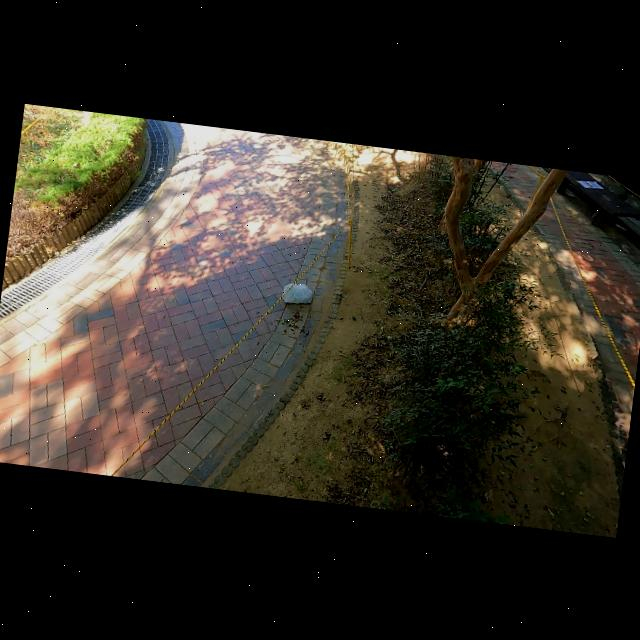trash: (278, 276, 316, 312)
